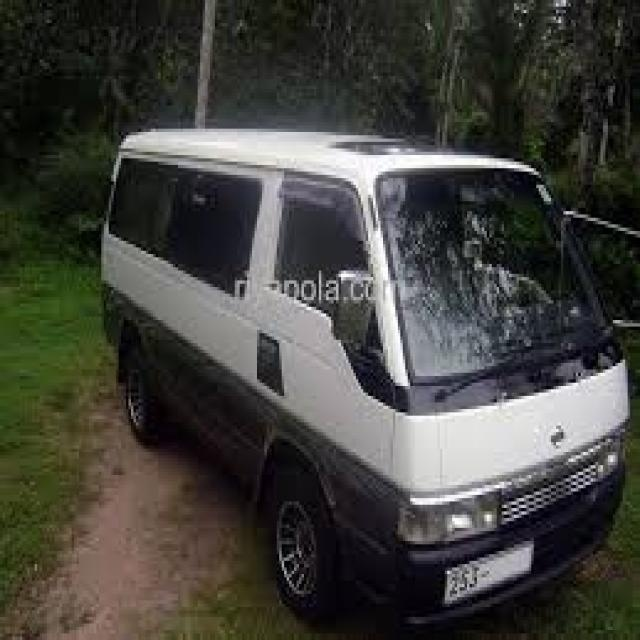Van: (97, 119, 632, 630)
